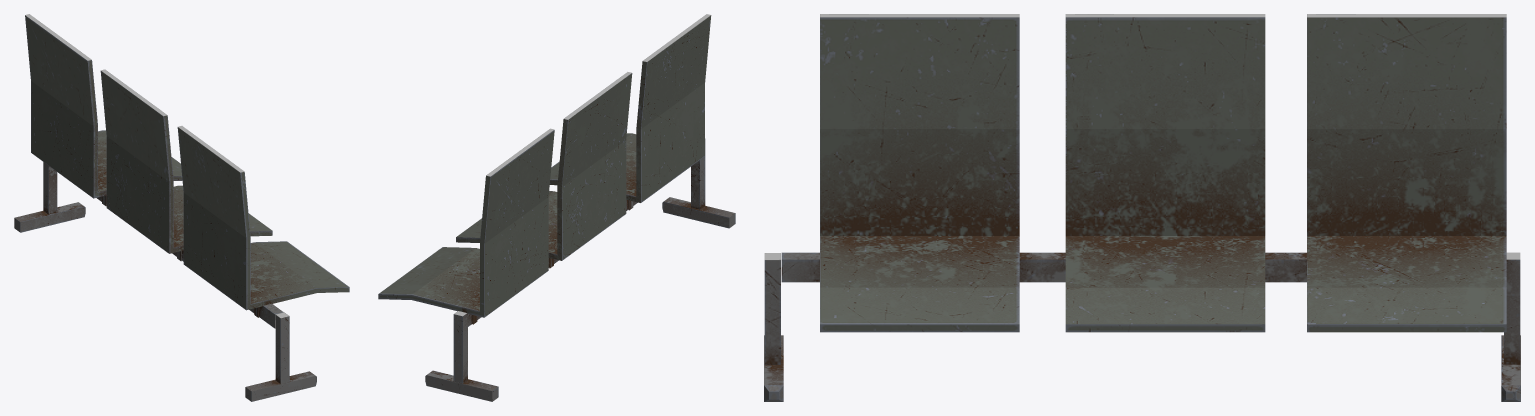
Rendered from Sillas2 (1).fbx.
The picture shows the model from 3 angles, left to right: view 1: azimuth 30°, elevation 25°; view 2: azimuth 150°, elevation 25°; view 3: azimuth 270°, elevation 25°; orthographic projection. The views are drawn at different scales.
Parts seen in each view (by area): view 1: Cube.002, Cube.003, Cube.008, Cube, Cube.011, Cube.012, Cube.001; view 2: Cube.008, Cube.003, Cube.002, Cube, Cube.012, Cube.011; view 3: Cube.003, Cube.002, Cube.008, Cube.001, Cube.011, Cube.012, Cube.
Boxes of the visible parts, box(x1,y1,x2,y2) form: Cube.002: box(177, 126, 349, 310); Cube.003: box(100, 69, 272, 253); Cube.008: box(25, 14, 182, 198); Cube: box(14, 202, 316, 401); Cube.011: box(275, 312, 289, 383); Cube.012: box(43, 162, 57, 214); Cube.001: box(97, 196, 283, 328); Cube.008: box(378, 128, 554, 317); Cube.003: box(456, 72, 632, 260); Cube.002: box(549, 14, 711, 202); Cube: box(425, 197, 735, 401); Cube.012: box(453, 311, 467, 383); Cube.011: box(691, 138, 705, 209); Cube.003: box(1065, 14, 1265, 332); Cube.002: box(820, 14, 1019, 332); Cube.008: box(1307, 14, 1506, 332); Cube.001: box(781, 252, 1306, 282); Cube.011: box(764, 253, 780, 364); Cube.012: box(1504, 252, 1520, 364); Cube: box(764, 335, 1520, 401).
Size of the model in its own units: 61.14 by 109 by 217.
Materials: 1 (1 with a texture image).
